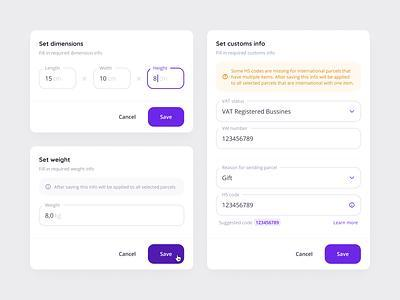button: (149, 107, 185, 128), (149, 245, 186, 265), (325, 245, 362, 265)
dropdown: (217, 102, 362, 123), (217, 168, 361, 189)
input: (217, 129, 362, 150), (41, 206, 184, 227), (218, 196, 361, 216), (149, 68, 184, 90), (40, 69, 77, 89), (94, 69, 131, 89)
label: (118, 114, 139, 122), (295, 251, 315, 259), (119, 251, 138, 259)
